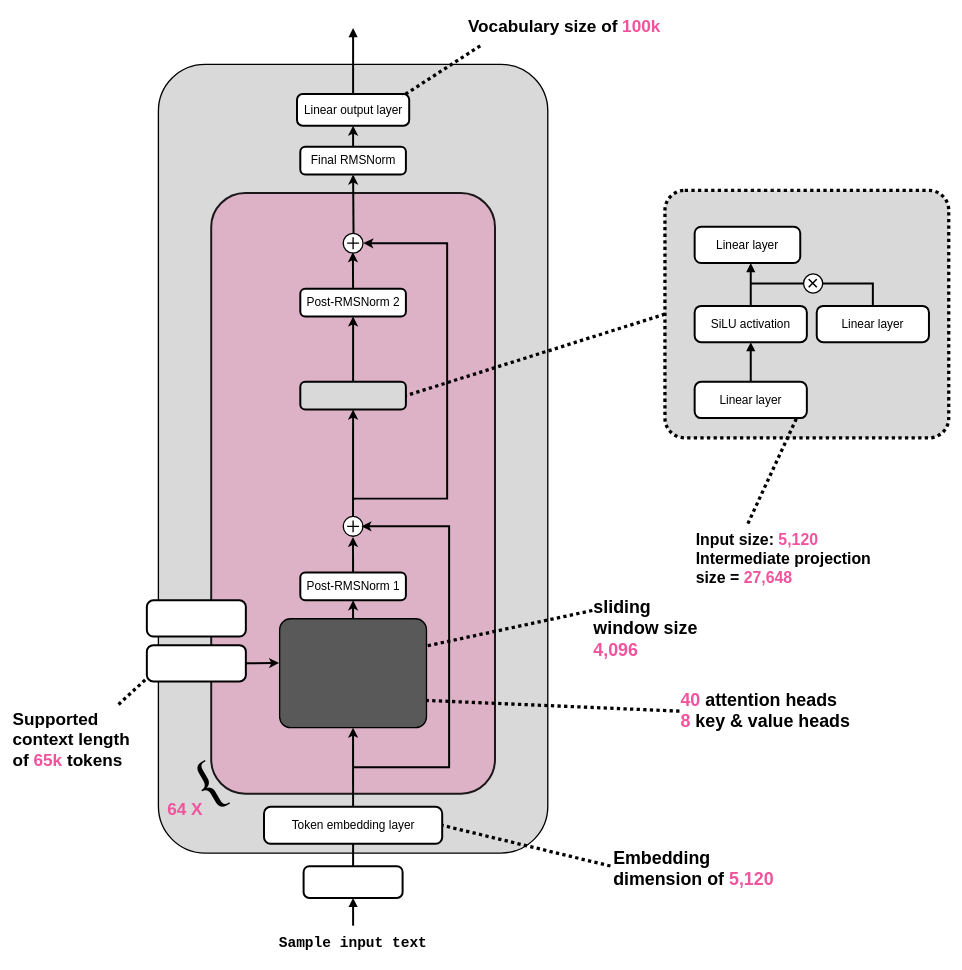
Some shapes in this 962 by 970 pixel diagram are drawn without their labels. The box of each missing label's shape, as (x1, y1, x2, y2) in pixels:
3:1(local:global) sliding window grouped-query attention: (279, 618, 427, 728)
Feed forward: (299, 380, 407, 410)
QKNorm: (146, 599, 247, 637)
RoPE: (146, 644, 247, 682)
Tokenized text: (302, 865, 403, 899)
